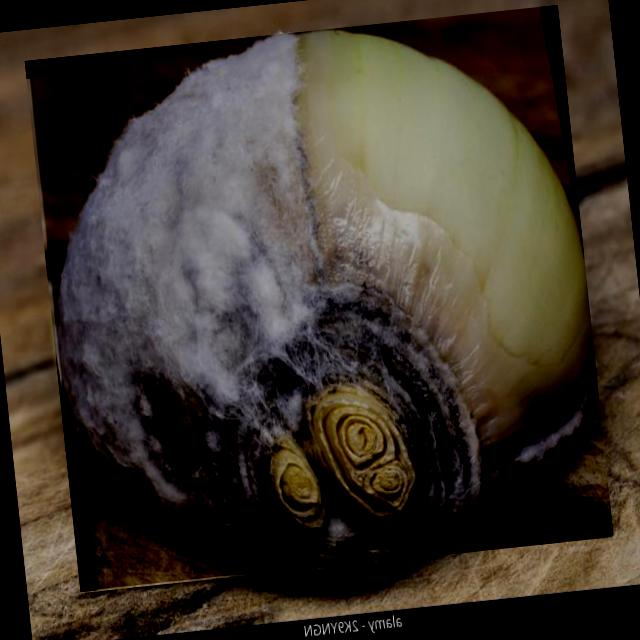rotten: (57, 32, 591, 564)
